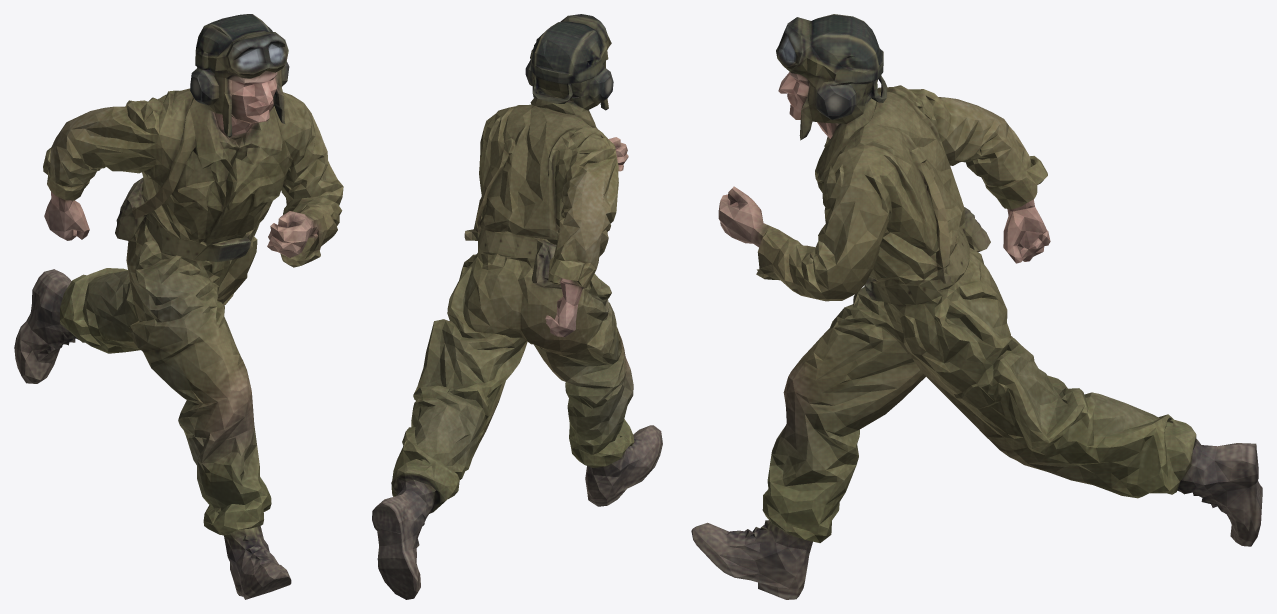
The model's file is tanker_us_run.obj.
3 views of the same model, side by side, from view 1: azimuth 30°, elevation 25°; view 2: azimuth 150°, elevation 25°; view 3: azimuth 270°, elevation 25° (orthographic). The views are drawn at different scales.
Parts seen in each view (by area): view 1: tanker_us_run; view 2: tanker_us_run; view 3: tanker_us_run.
Part boxes in pixels (x1,y1,x2,y2): tanker_us_run: [14, 14, 343, 599]; tanker_us_run: [372, 14, 662, 599]; tanker_us_run: [691, 14, 1262, 599].
Size of the model in its own units: 0.6884 by 1.72 by 1.53.
1 material, 1 textured.
